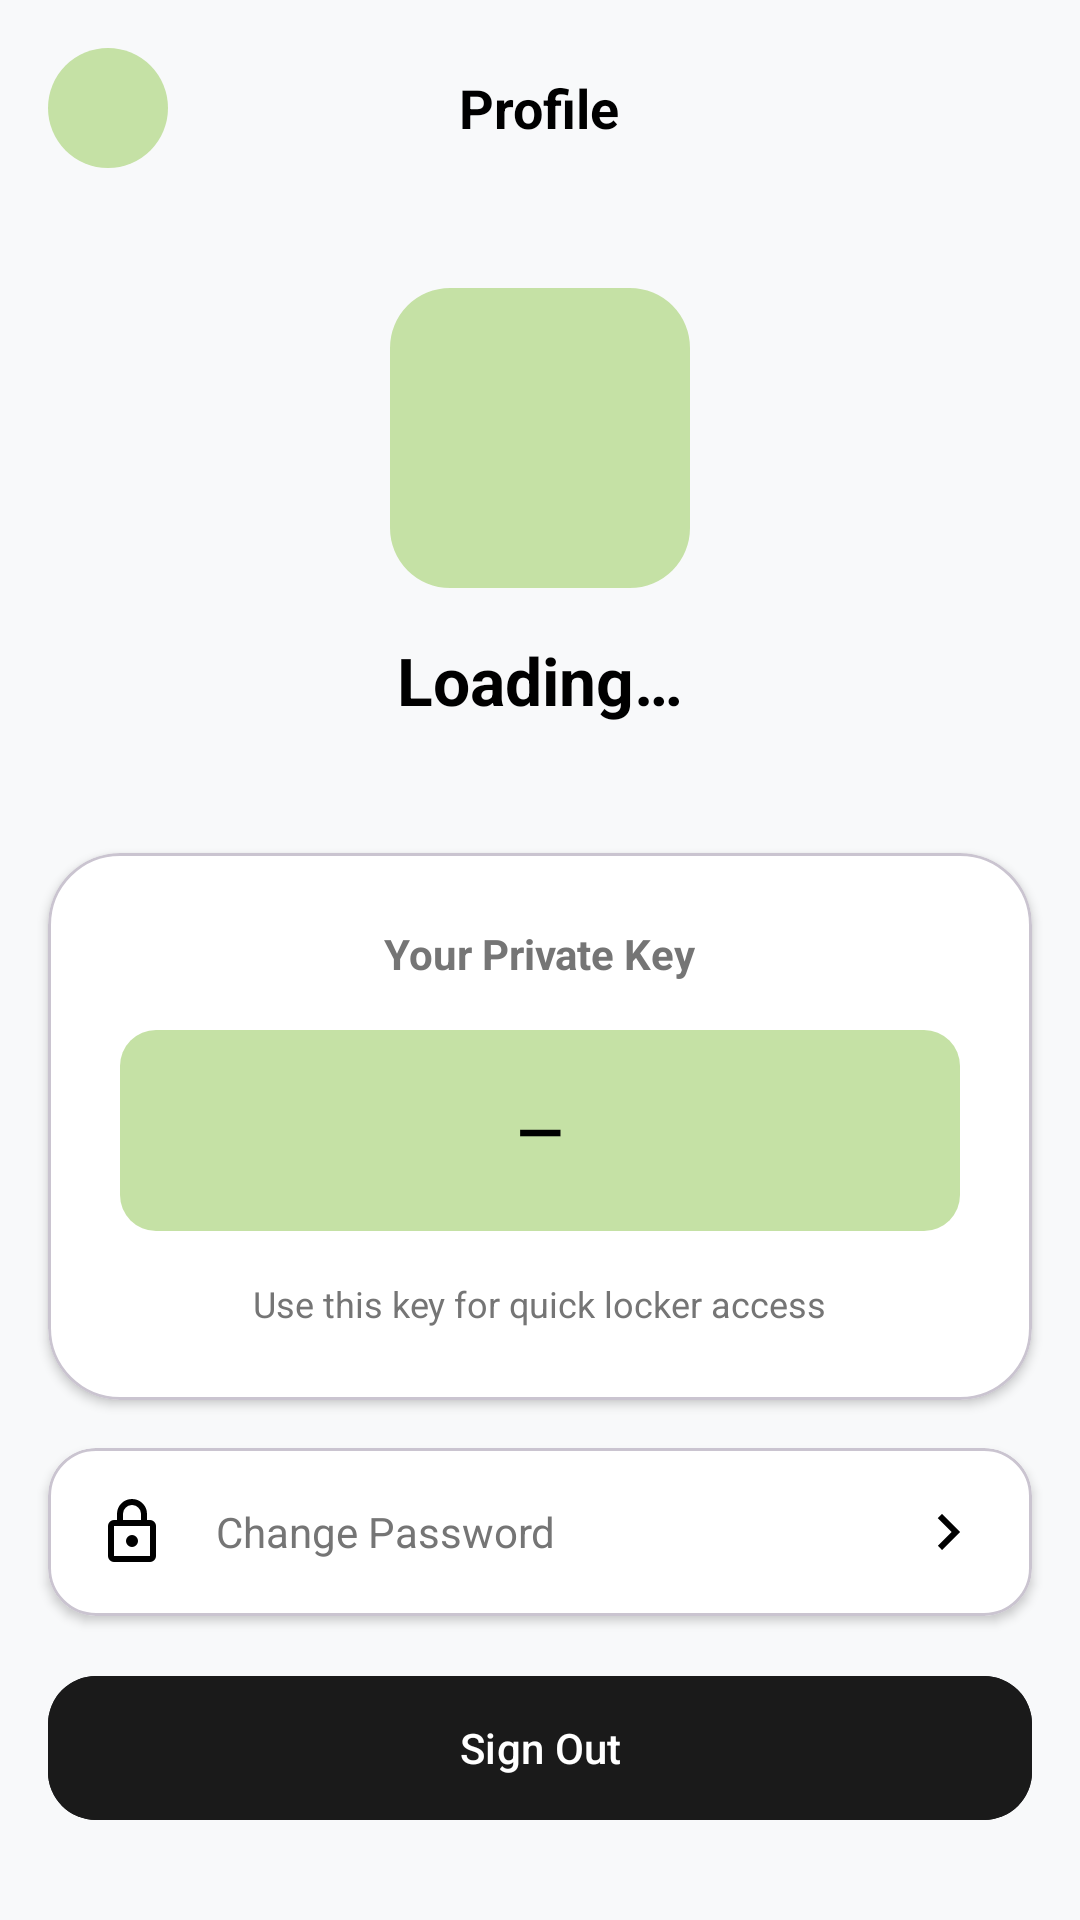

Screen size 1080w x 1920h. Icon name, then its center in pixels as (x,y):
chevron right: (949,1532)
locker: (132,1530)
